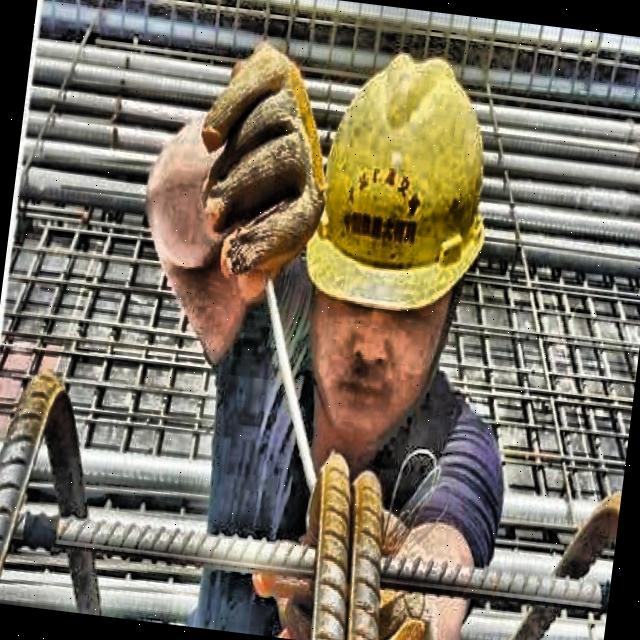helmet: (282, 15, 524, 449)
